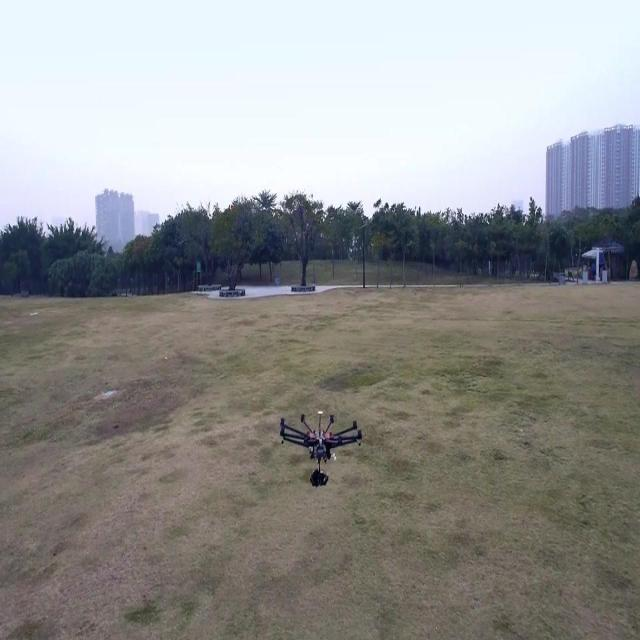drone: (278, 408, 364, 489)
